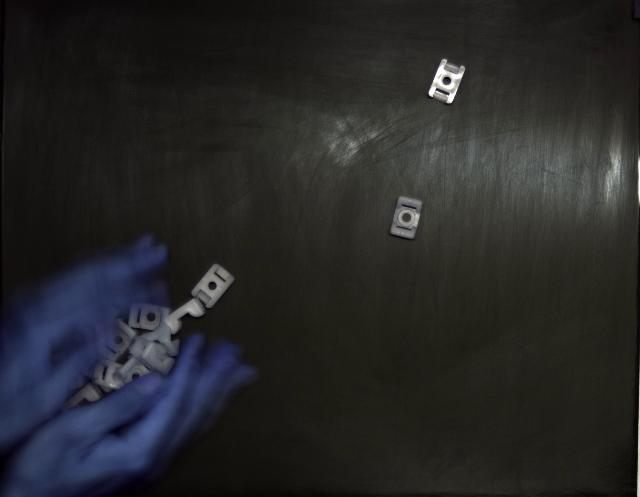first_side: (390, 196, 422, 239)
second_side: (191, 264, 235, 309), (429, 59, 465, 104)
